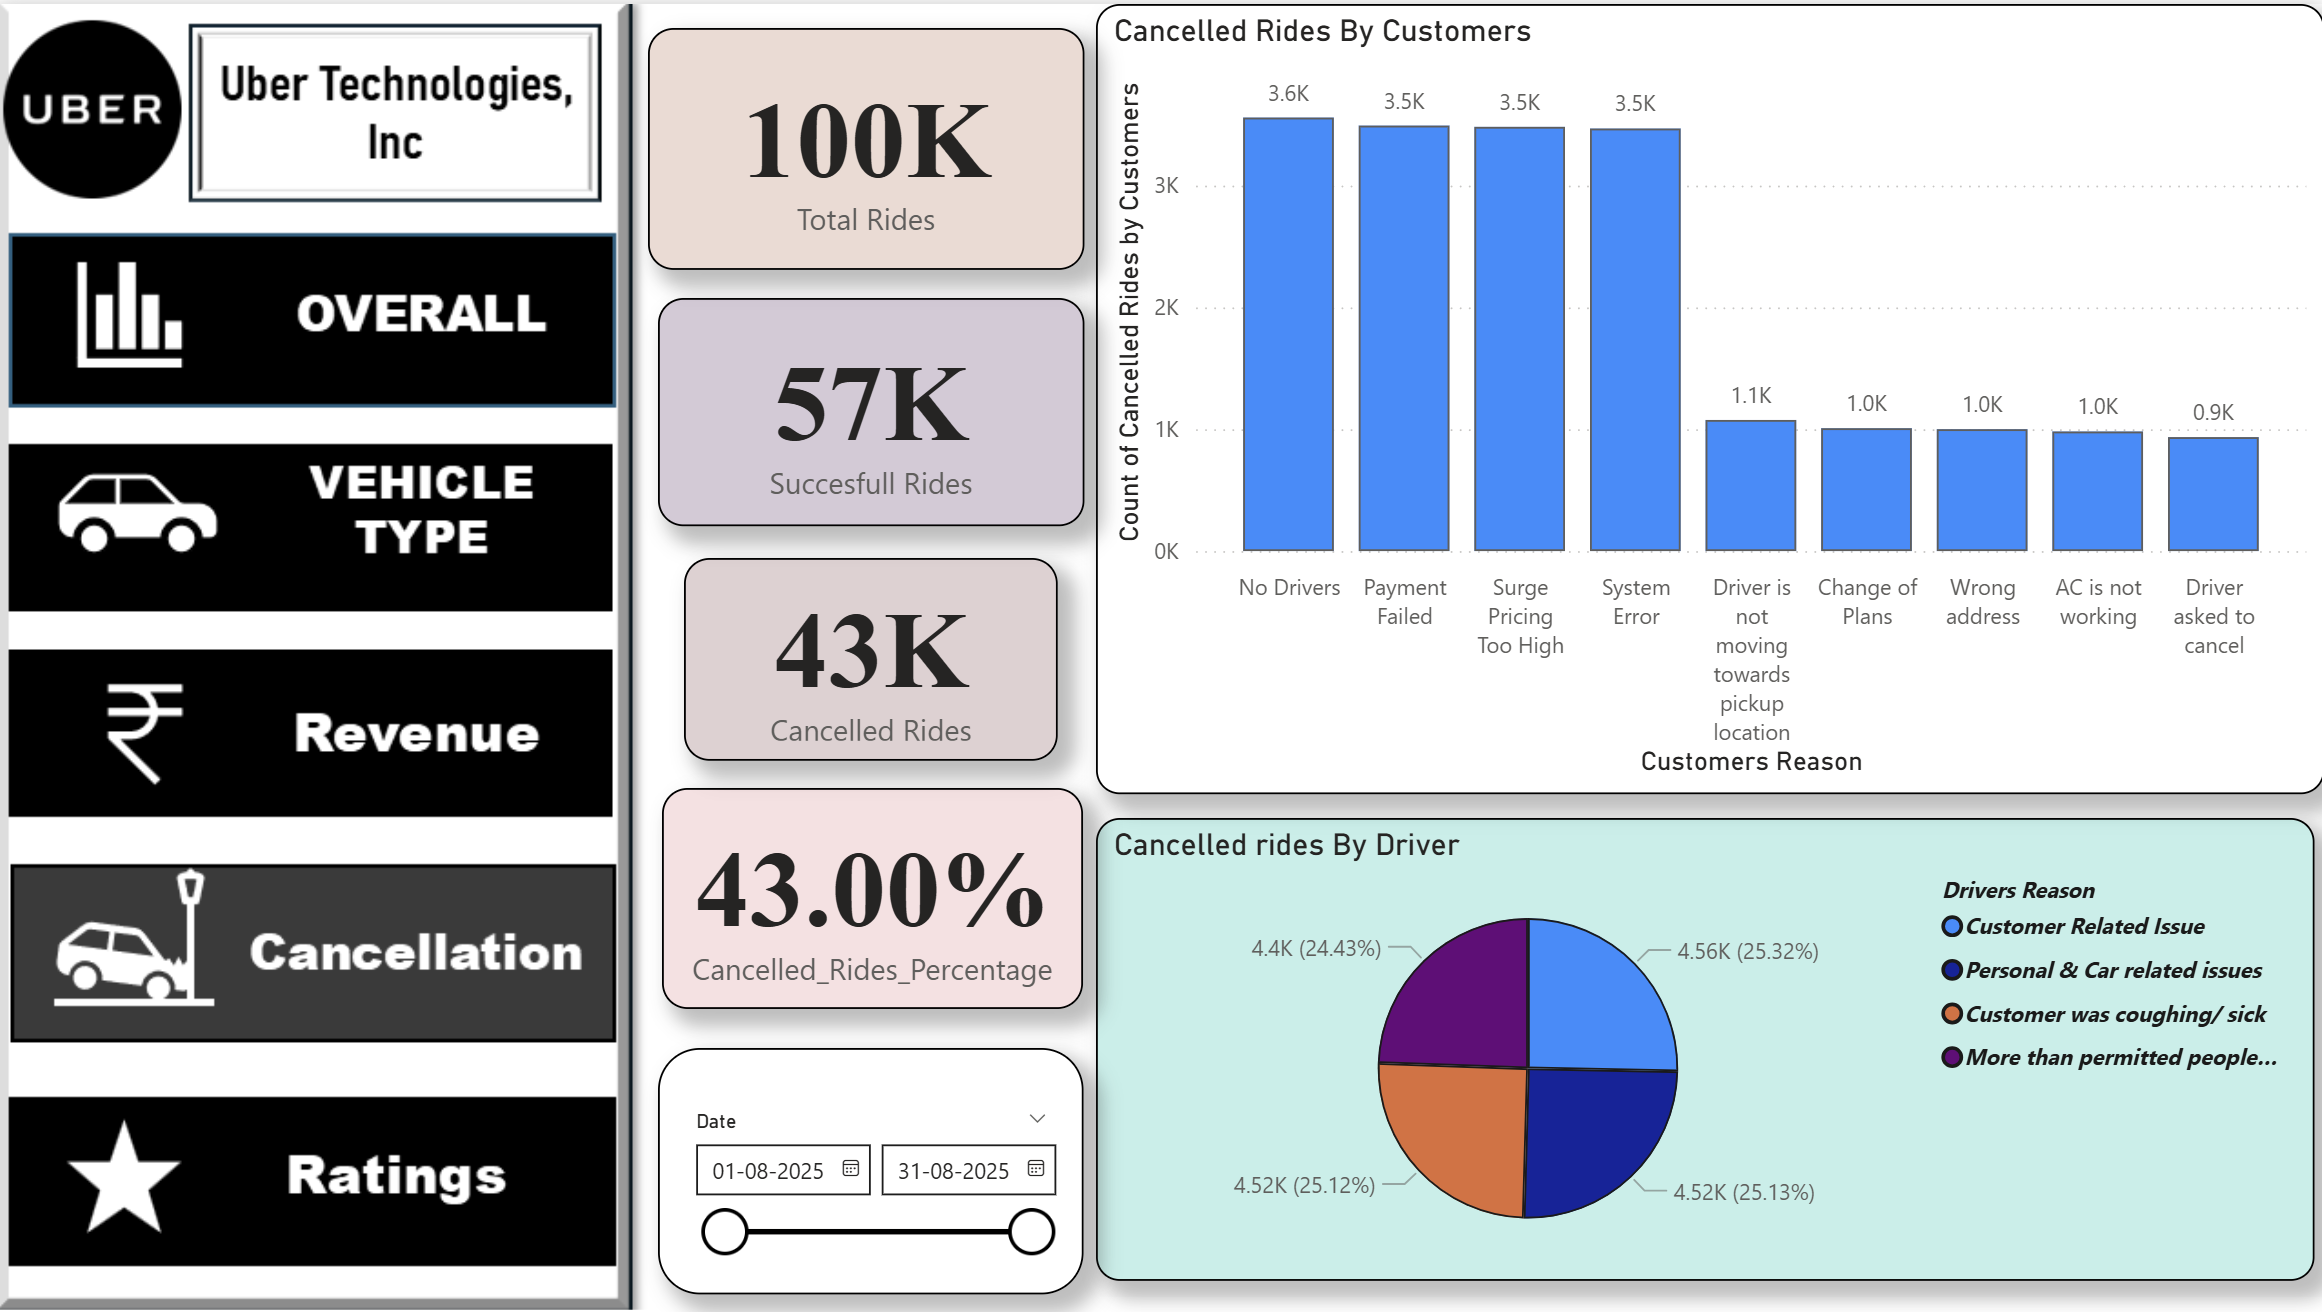

The dashboard page shown, as its layout file describes it:
{"tool":"powerbi","page":{"name":"Cancellation","canvas":[1280,720],"ordinal":3},"visuals":[{"type":"actionButton","box":[8,598.5,335.6,93.6],"z":0},{"type":"actionButton","box":[9,474,335.6,93.6],"z":1000},{"type":"actionButton","box":[8,353.5,335.6,93.6],"z":2000},{"type":"actionButton","box":[8,241,335.6,93.6],"z":3000},{"type":"actionButton","box":[8,127.5,335.6,93.6],"z":4000},{"type":"columnChart","title":"Cancelled Rides By Customers","fields":{"Category":["Aug_Chd_Data_Updated.Reasons for cancelling (customer)"],"Y":["CountNonNull(Aug_Chd_Data_Updated.Cancelled Rides by Customers)"]},"box":[604.3,0,675.7,434.3],"z":5000},{"type":"pieChart","title":"Cancelled rides By Driver","fields":{"Y":["CountNonNull(Aug_Chd_Data_Updated.Cancelled rides by driver)"],"Category":["Aug_Chd_Data_Updated.Reasons for cancelling (driver)"]},"box":[604.3,447.1,670,254.3],"z":6000},{"type":"slicer","title":"  ","fields":{"Values":["Aug_Chd_Data_Updated.Date"]},"box":[364,574,234.2,135.3],"z":7000},{"type":"card","title":"TOTAL BOOKINGS","fields":{"Values":["CountNonNull(Aug_Chd_Data_Updated.Booking ID)"]},"box":[358.6,12.9,240,132.9],"z":8000},{"type":"card","title":"TOTAL BOOKINGS","fields":{"Values":["CountNonNull(Aug_Chd_Data_Updated.Booking Status)"]},"box":[364.3,161.4,234.3,125.7],"z":9000},{"type":"card","title":"TOTAL BOOKINGS","fields":{"Values":["CountNonNull(Aug_Chd_Data_Updated.Booking Status)"]},"box":[378.6,304.3,205.7,111.4],"z":10000},{"type":"card","title":"TOTAL BOOKINGS","fields":{"Values":["Aug_Chd_Data_Updated.Cancelled_Percentage"]},"box":[365.7,431.4,231.4,121.4],"z":11000}]}

Visuals, with their boxes in screenshot pixels (x1, y1, x2, y2), scaled from the page's 1280x720 canvas onto the 2322x1312 screenshot:
actionButton: BBox(15, 1091, 623, 1261)
actionButton: BBox(16, 864, 625, 1034)
actionButton: BBox(15, 644, 623, 815)
actionButton: BBox(15, 439, 623, 610)
actionButton: BBox(15, 232, 623, 403)
"Cancelled Rides By Customers" columnChart: BBox(1096, 0, 2321, 791)
"Cancelled rides By Driver" pieChart: BBox(1096, 815, 2312, 1278)
"  " slicer: BBox(660, 1046, 1085, 1293)
"TOTAL BOOKINGS" card: BBox(651, 24, 1086, 266)
"TOTAL BOOKINGS" card: BBox(661, 294, 1086, 523)
"TOTAL BOOKINGS" card: BBox(687, 555, 1060, 757)
"TOTAL BOOKINGS" card: BBox(663, 786, 1083, 1007)
